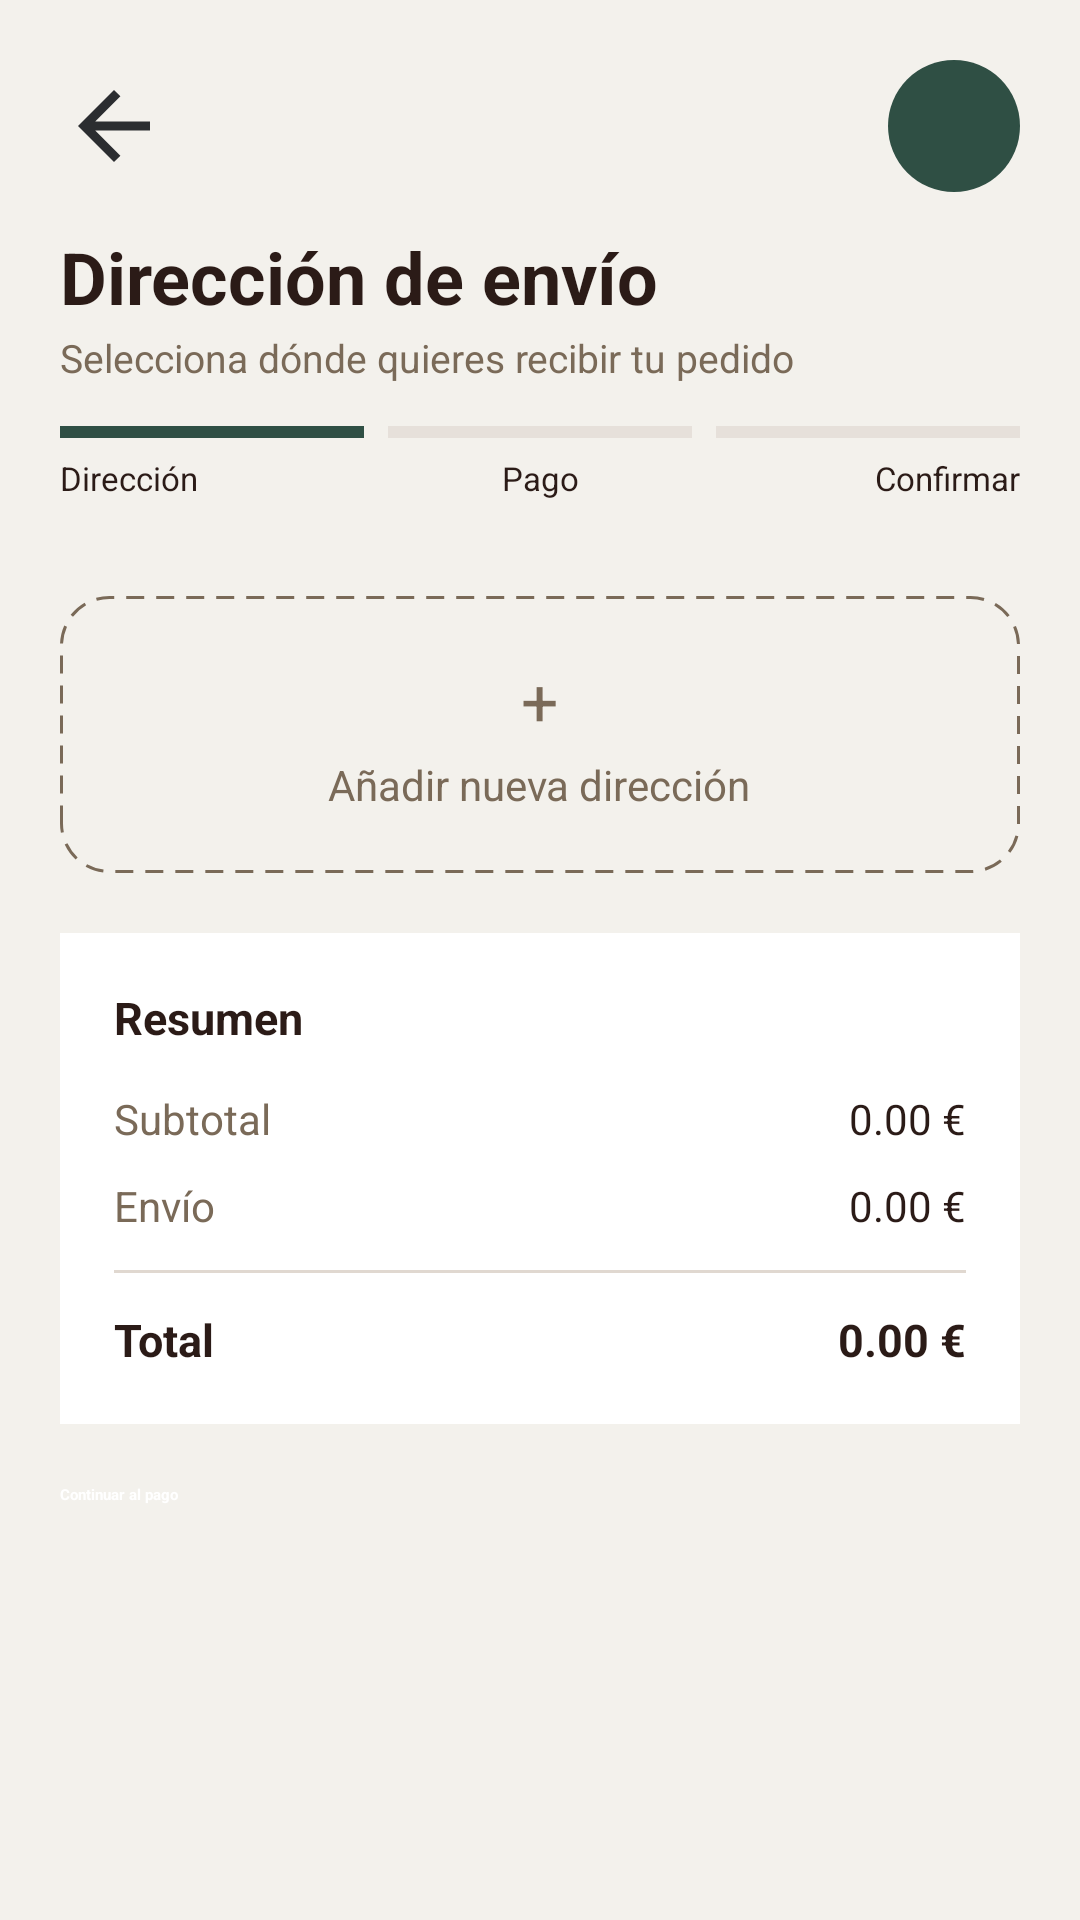

Locate icon controls on the screen. Image size 1080w x 1920h, boxes as [left=x1, top=y1, right=x2, bottom=y2].
Volver: [left=78, top=90, right=150, bottom=162]
